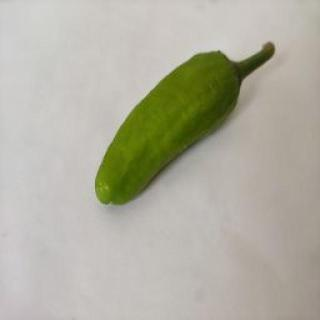Cabai Hijau: (90, 39, 283, 215)
